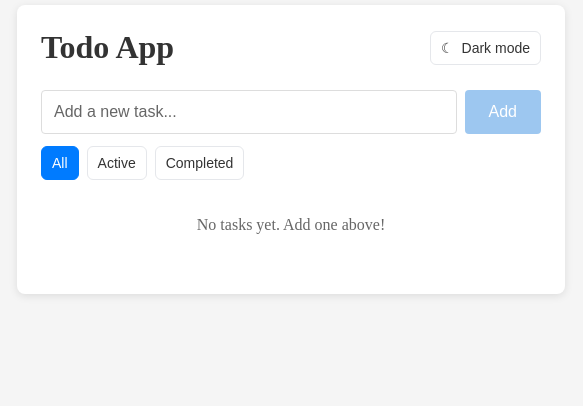
Test: counts the todos that are still open
This screenshot has width=583, height=406.
Type "water the plants" into the field with placeholder "Add a new task..." at (249, 112), box [41,90,456,134]
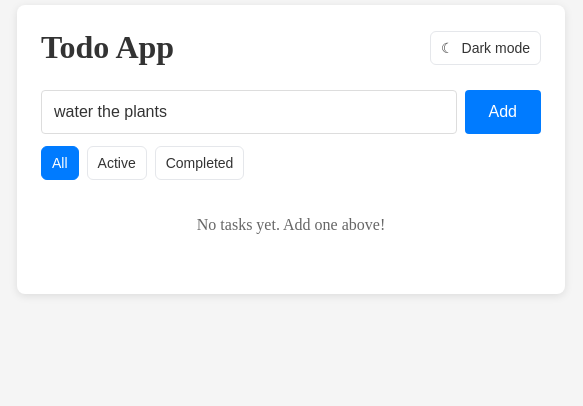
Submit the form with placeholder "Add a new task", box [41,90,541,134]
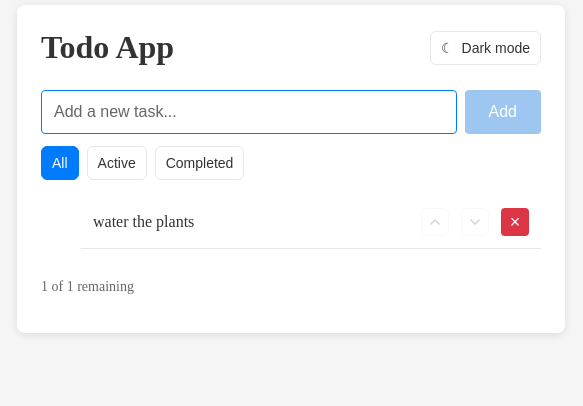
Type "take out the bins" into the field with placeholder "Add a new task..." at (249, 112), box [41,90,456,134]
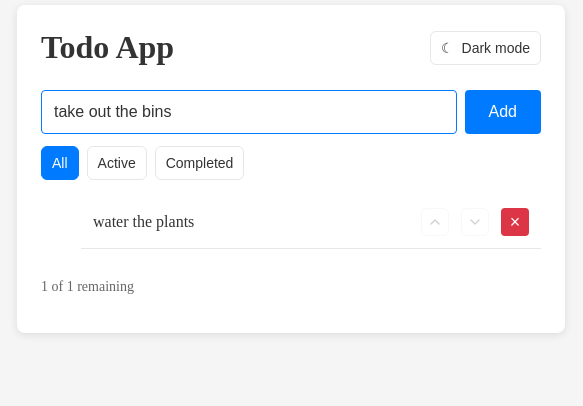
Submit the form with placeholder "Add a new task", box [41,90,541,134]
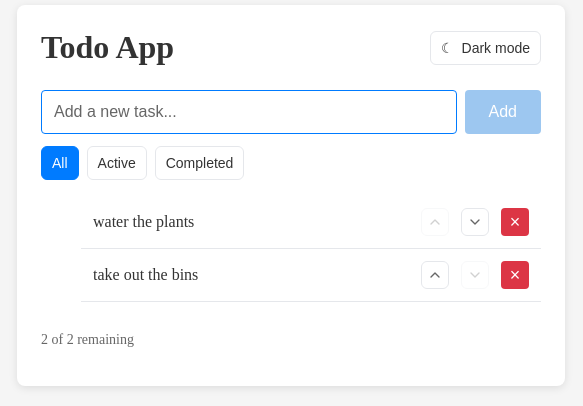
Click the text "water the plants" at (144, 222), box [93,213,194,230]
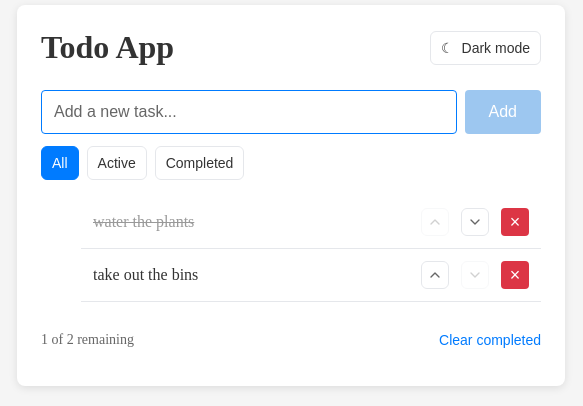
Now the text "1 of 2 remaining" is shown, box [41,332,134,348]
